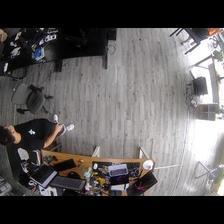normal: (1, 110, 78, 149)
